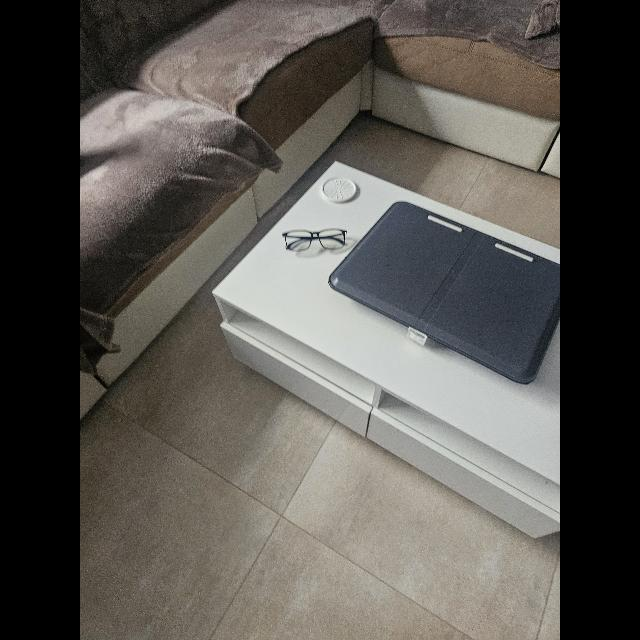glasses: (282, 228, 346, 252)
